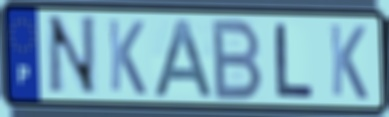A: (151, 17, 217, 101)
B: (211, 16, 266, 102)
K: (327, 21, 370, 103), (106, 16, 149, 98)
L: (273, 21, 316, 101)
N: (45, 13, 101, 98)
